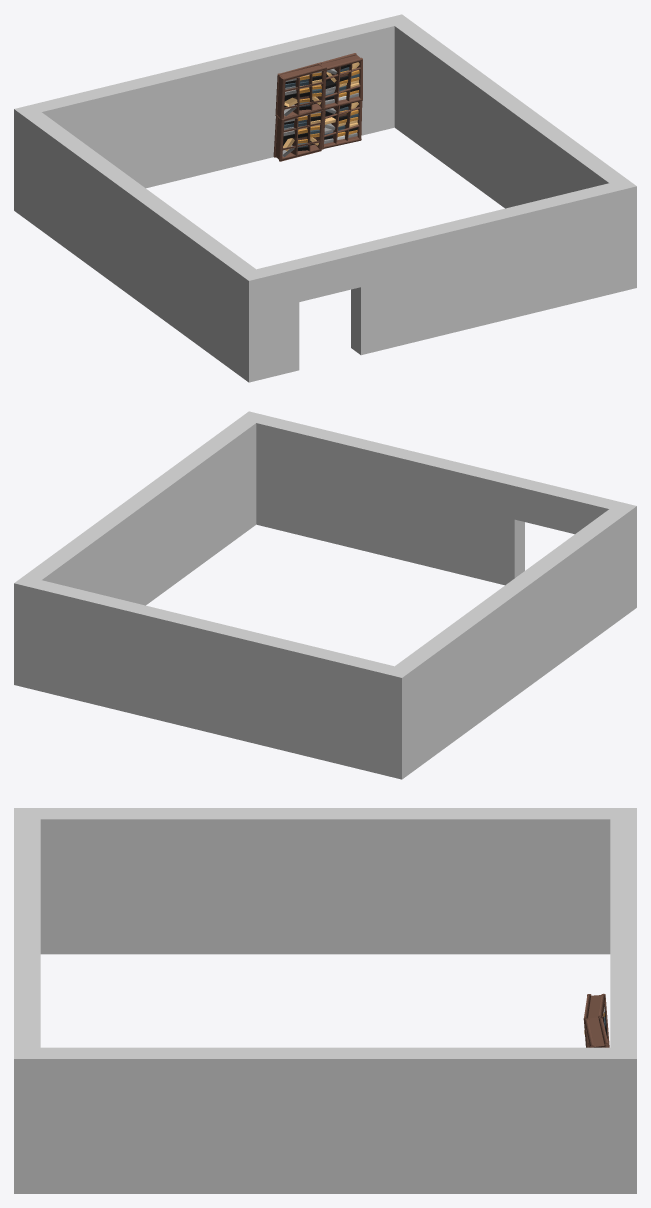
Rendered from house_small.glb.
3 views of the same model, one above another, from view 1: azimuth 30°, elevation 25°; view 2: azimuth 150°, elevation 25°; view 3: azimuth 270°, elevation 25° (orthographic). The views are drawn at different scales.
Visible parts, largest first — view 1: house_small-col, bookshelf; view 2: house_small-col; view 3: house_small-col, bookshelf.
Part boxes in pixels (box(x1,y1,x2,y2)): house_small-col: box(14, 14, 636, 382); bookshelf: box(273, 53, 362, 161); house_small-col: box(14, 411, 636, 779); house_small-col: box(14, 808, 636, 1193); bookshelf: box(583, 993, 609, 1047).
Bounding box in the file's own units: 22.41 × 5.68 × 23.49.
